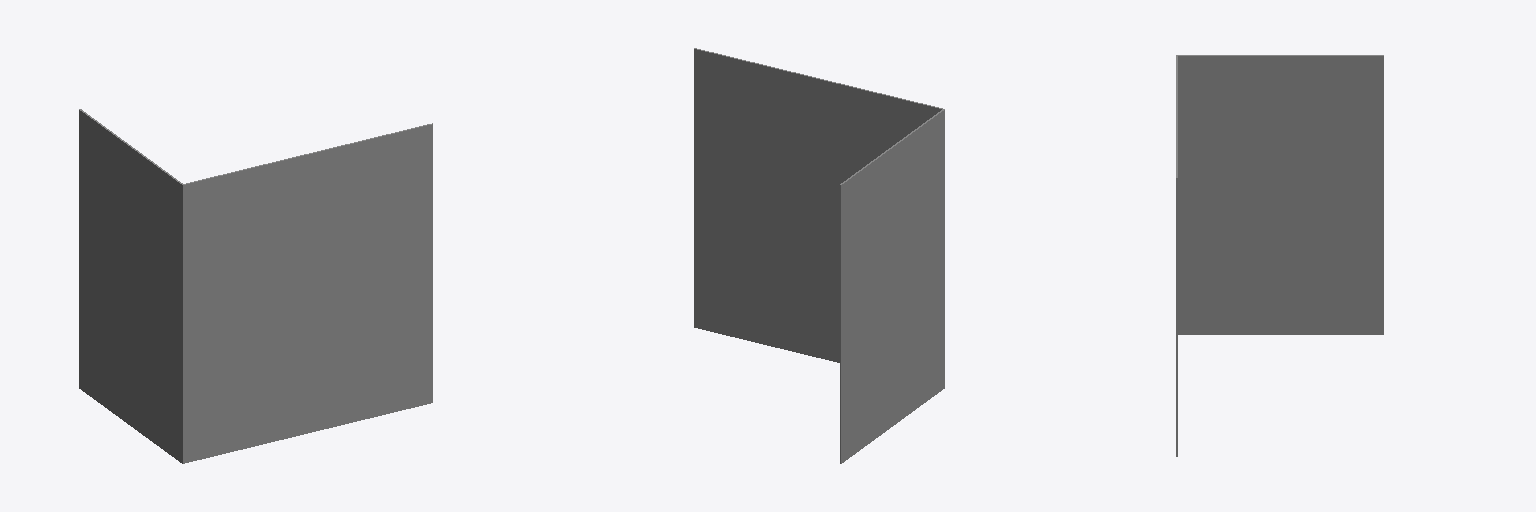
The model's file is elelion.obj.
3 views of the same model, side by side, from view 1: azimuth 30°, elevation 25°; view 2: azimuth 150°, elevation 25°; view 3: azimuth 270°, elevation 25° (orthographic).
Bounding box in the file's own units: 7.07 × 7.51 × 5.08.